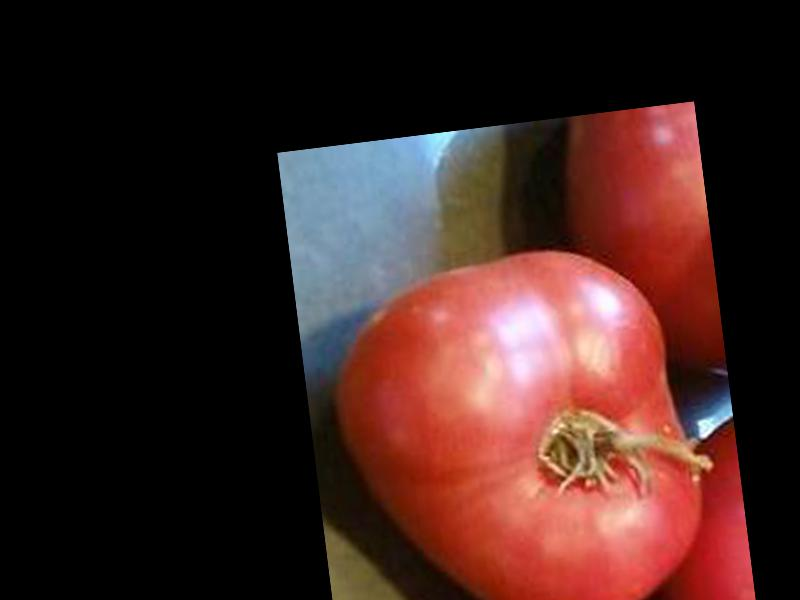Tomato: (322, 234, 714, 600)
